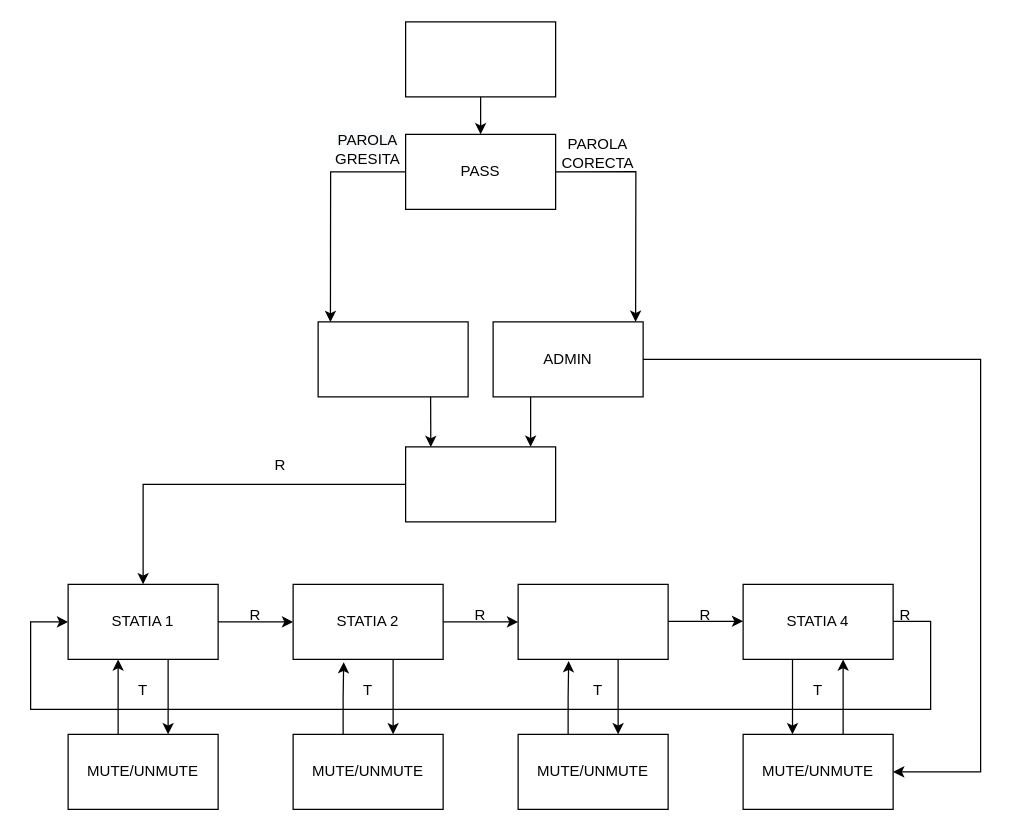
The diagram is 1013 pixels wide and 831 high, and some of its shapes have lost their labels. Each missing label, with the centre of its shape:
"ALEGE STATII" belongs at point (480, 484).
"START" belongs at point (480, 59).
"STATIA 3" belongs at point (592, 621).
"USER" belongs at point (392, 359).
